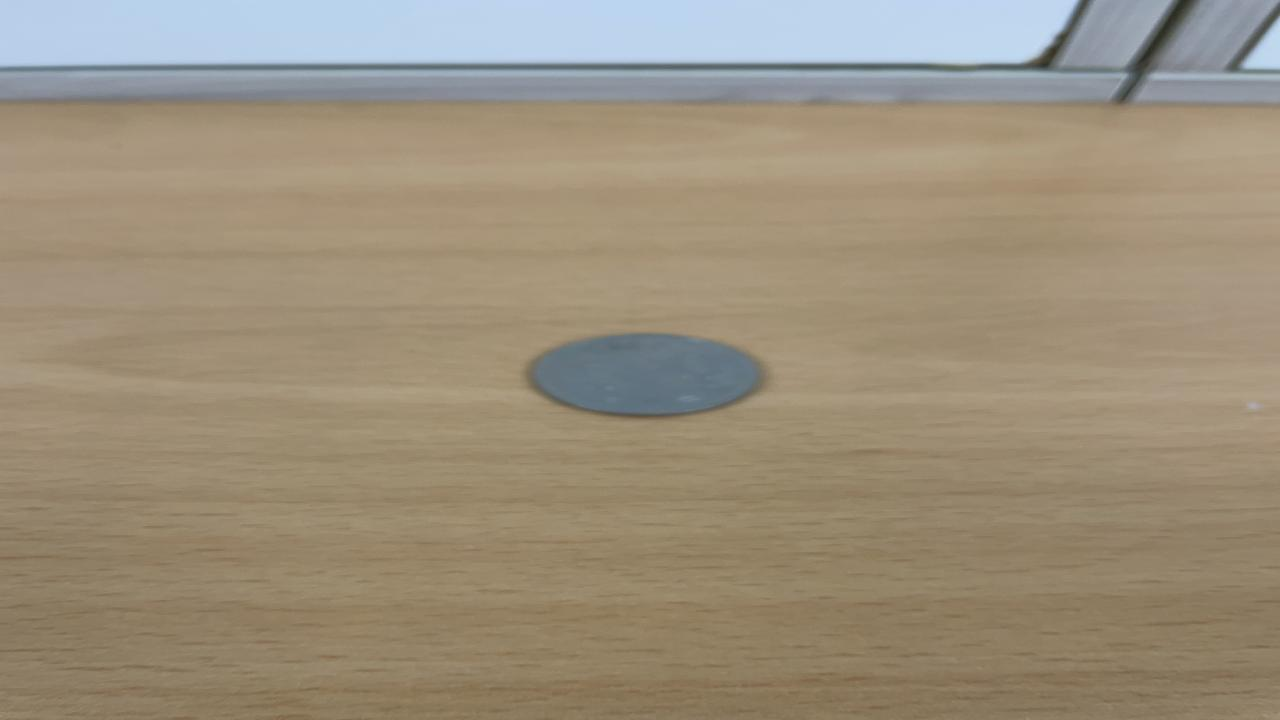coin: (525, 330, 767, 418)
